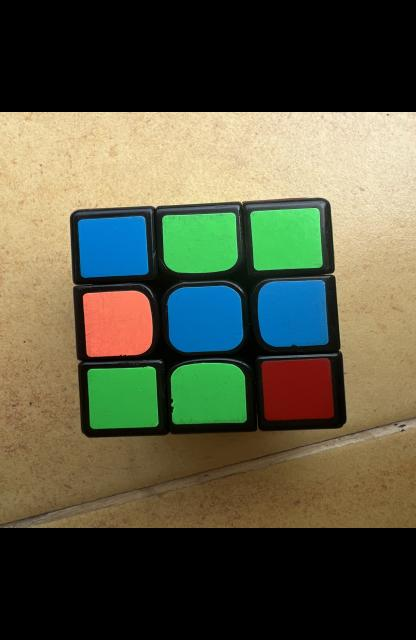Blue: (167, 285, 243, 352), (257, 280, 328, 347), (77, 216, 148, 278)
Green: (169, 363, 245, 425), (249, 207, 322, 270), (162, 213, 237, 273), (87, 367, 158, 429)
Orange: (82, 291, 152, 357)
Red: (260, 358, 333, 421)
